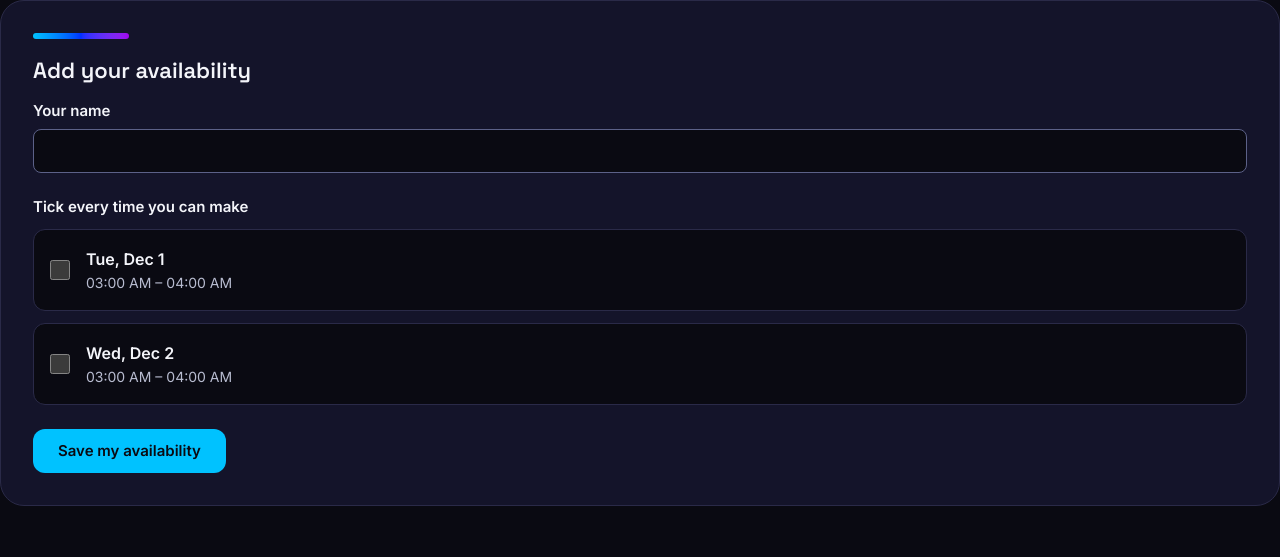
Scenario: VoteForm › shows field errors from the server
Type "Dee" into the field labelled "Your name". click: {"x": 640, "y": 151}
box: [33,129,1247,173]
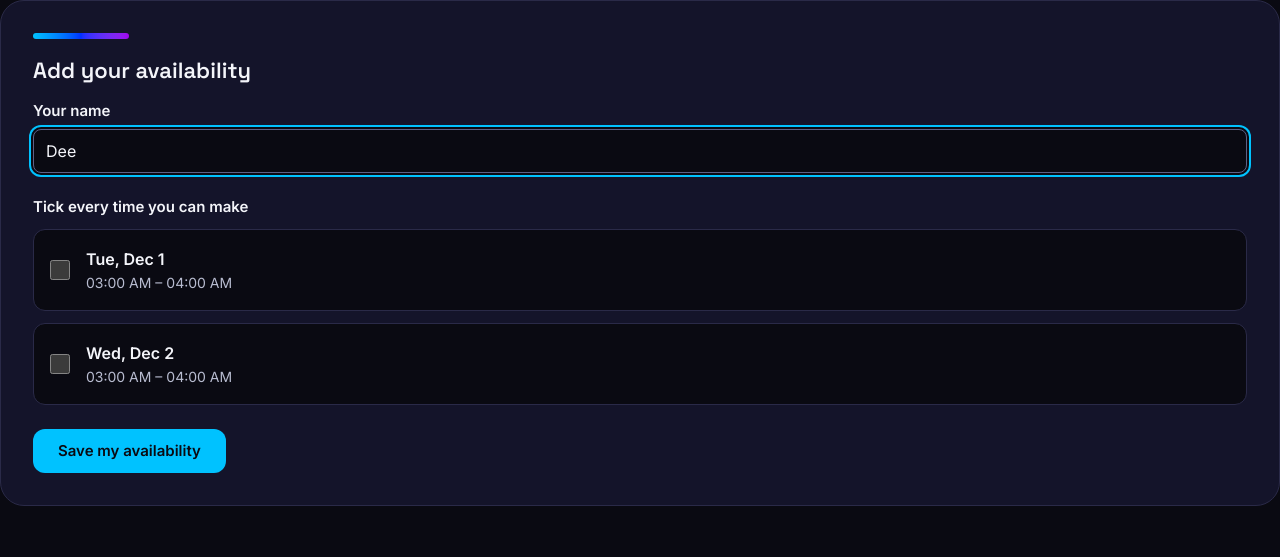
Click the button "Save my availability". click: {"x": 129, "y": 451}
box: [33,429,226,473]
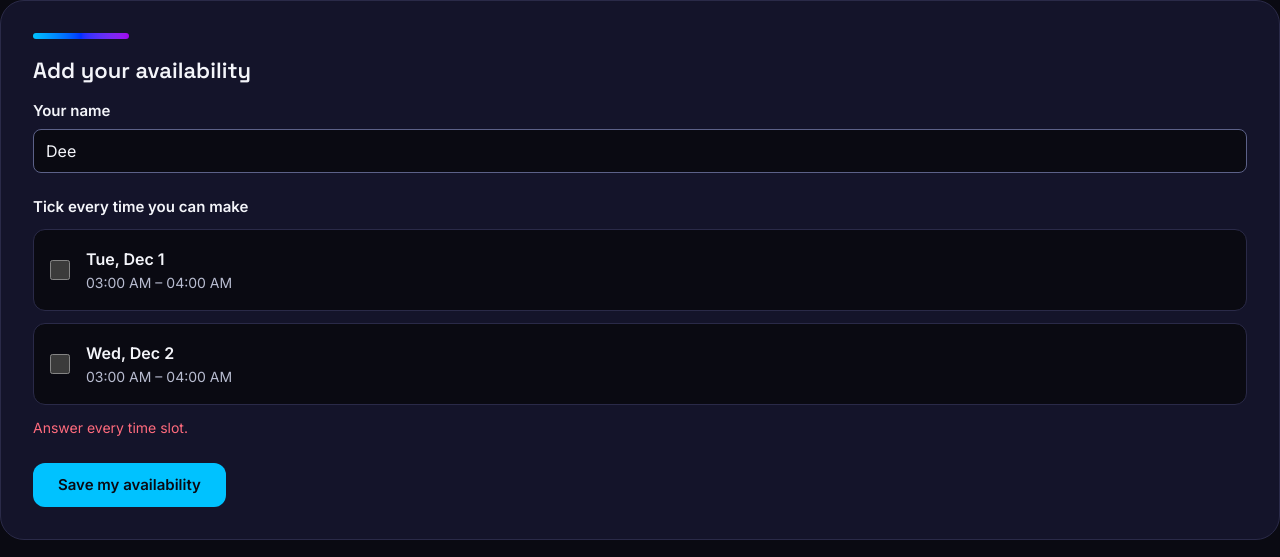
expect the message reads "Answer every time slot.": met, box [33,419,188,436]
